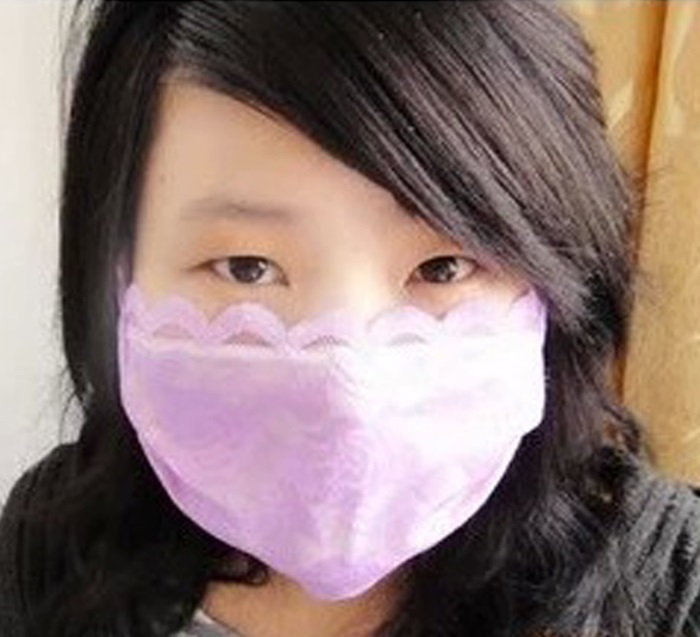face_mask: (127, 96, 552, 571)
